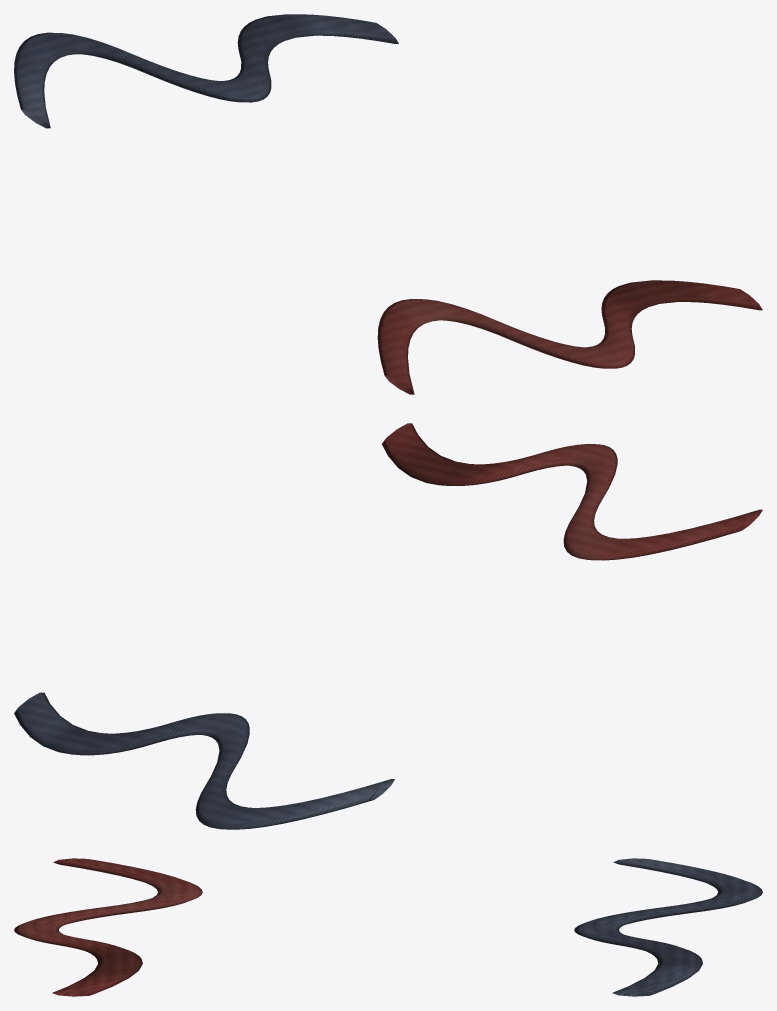
File: CL07_Scarf.glb
The picture shows the model from 3 angles, top to bottom: view 1: azimuth 30°, elevation 25°; view 2: azimuth 150°, elevation 25°; view 3: azimuth 270°, elevation 25°; orthographic projection. The views are drawn at different scales.
Visible parts, largest first — view 1: CL07_Scarf; view 2: CL07_Scarf; view 3: CL07_Scarf.
Part boxes in pixels (<box>): CL07_Scarf: <box>14,14,762,394</box>; CL07_Scarf: <box>14,423,762,829</box>; CL07_Scarf: <box>14,858,762,996</box>.
Bounding box in the file's own units: 0.4183 × 0.0127 × 1.
Materials: 2 (2 with a texture image).
